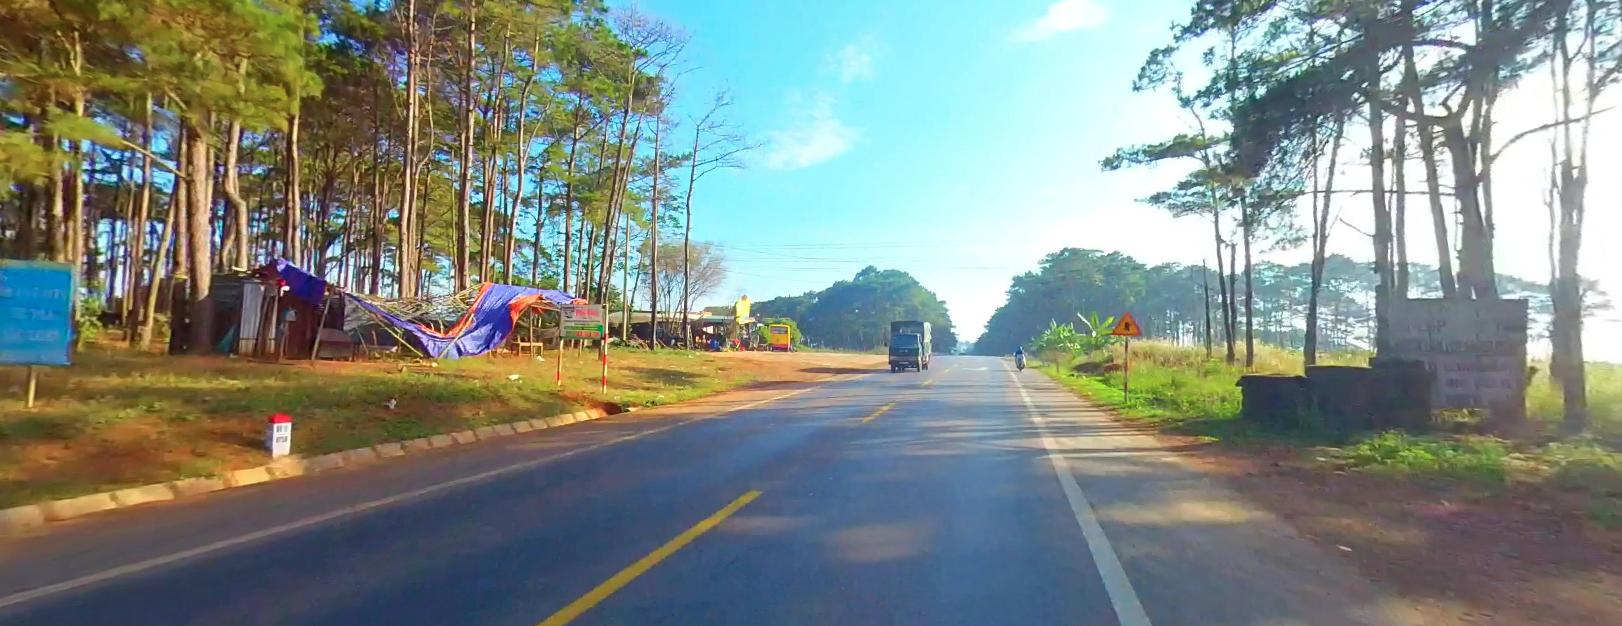Nguy hiem: (1111, 309, 1144, 336)
